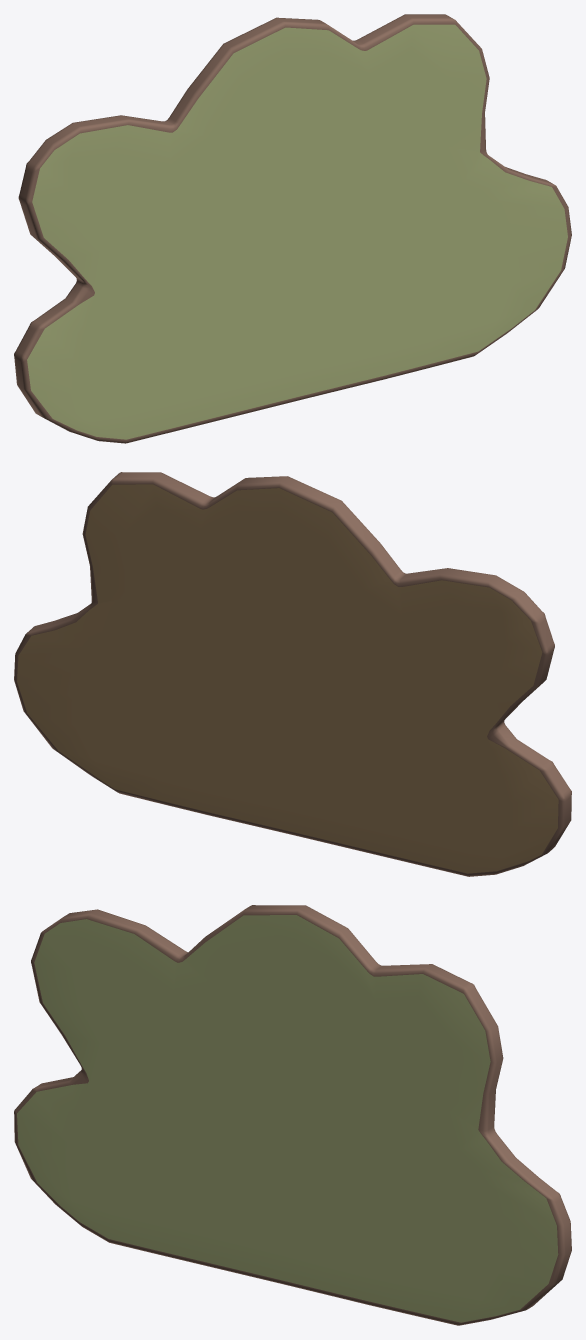
Rendered from Busch.fbx.
3 views of the same model, one above another, from view 1: azimuth 30°, elevation 25°; view 2: azimuth 150°, elevation 25°; view 3: azimuth 330°, elevation 25° (orthographic).
Visible parts, largest first — view 1: Busch.02; view 2: Busch.02; view 3: Busch.02.
Part boxes in pixels (<box>): Busch.02: <box>14,14,571,443</box>; Busch.02: <box>14,472,571,876</box>; Busch.02: <box>14,905,571,1325</box>.
Size of the model in its own units: 134 by 85.09 by 10.77.
